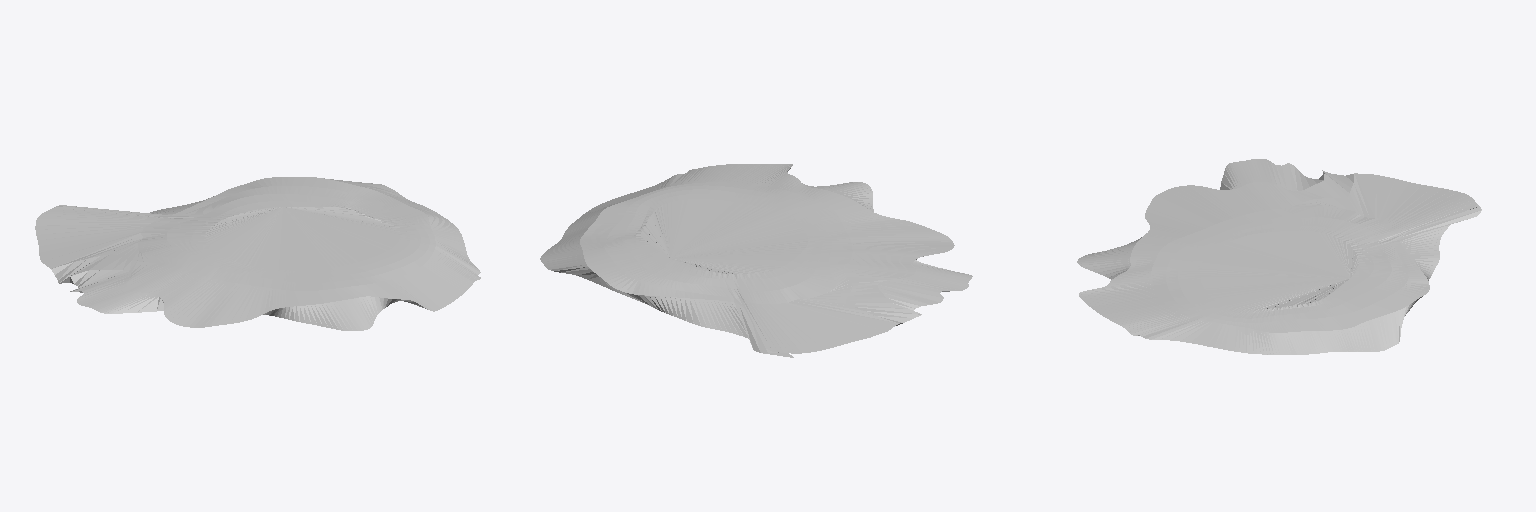
File: IslandLand1.obj
The picture shows the model from 3 angles: view 1: azimuth 30°, elevation 25°; view 2: azimuth 150°, elevation 25°; view 3: azimuth 270°, elevation 25°; orthographic projection.
Parts seen in each view (by area): view 1: Cylinder; view 2: Cylinder; view 3: Cylinder.
Boxes of the visible parts, x1,y1,x2,y2 form: Cylinder: [35, 177, 480, 330]; Cylinder: [540, 164, 972, 357]; Cylinder: [1077, 159, 1481, 354].
Size of the model in its own units: 203 by 9.59 by 190.